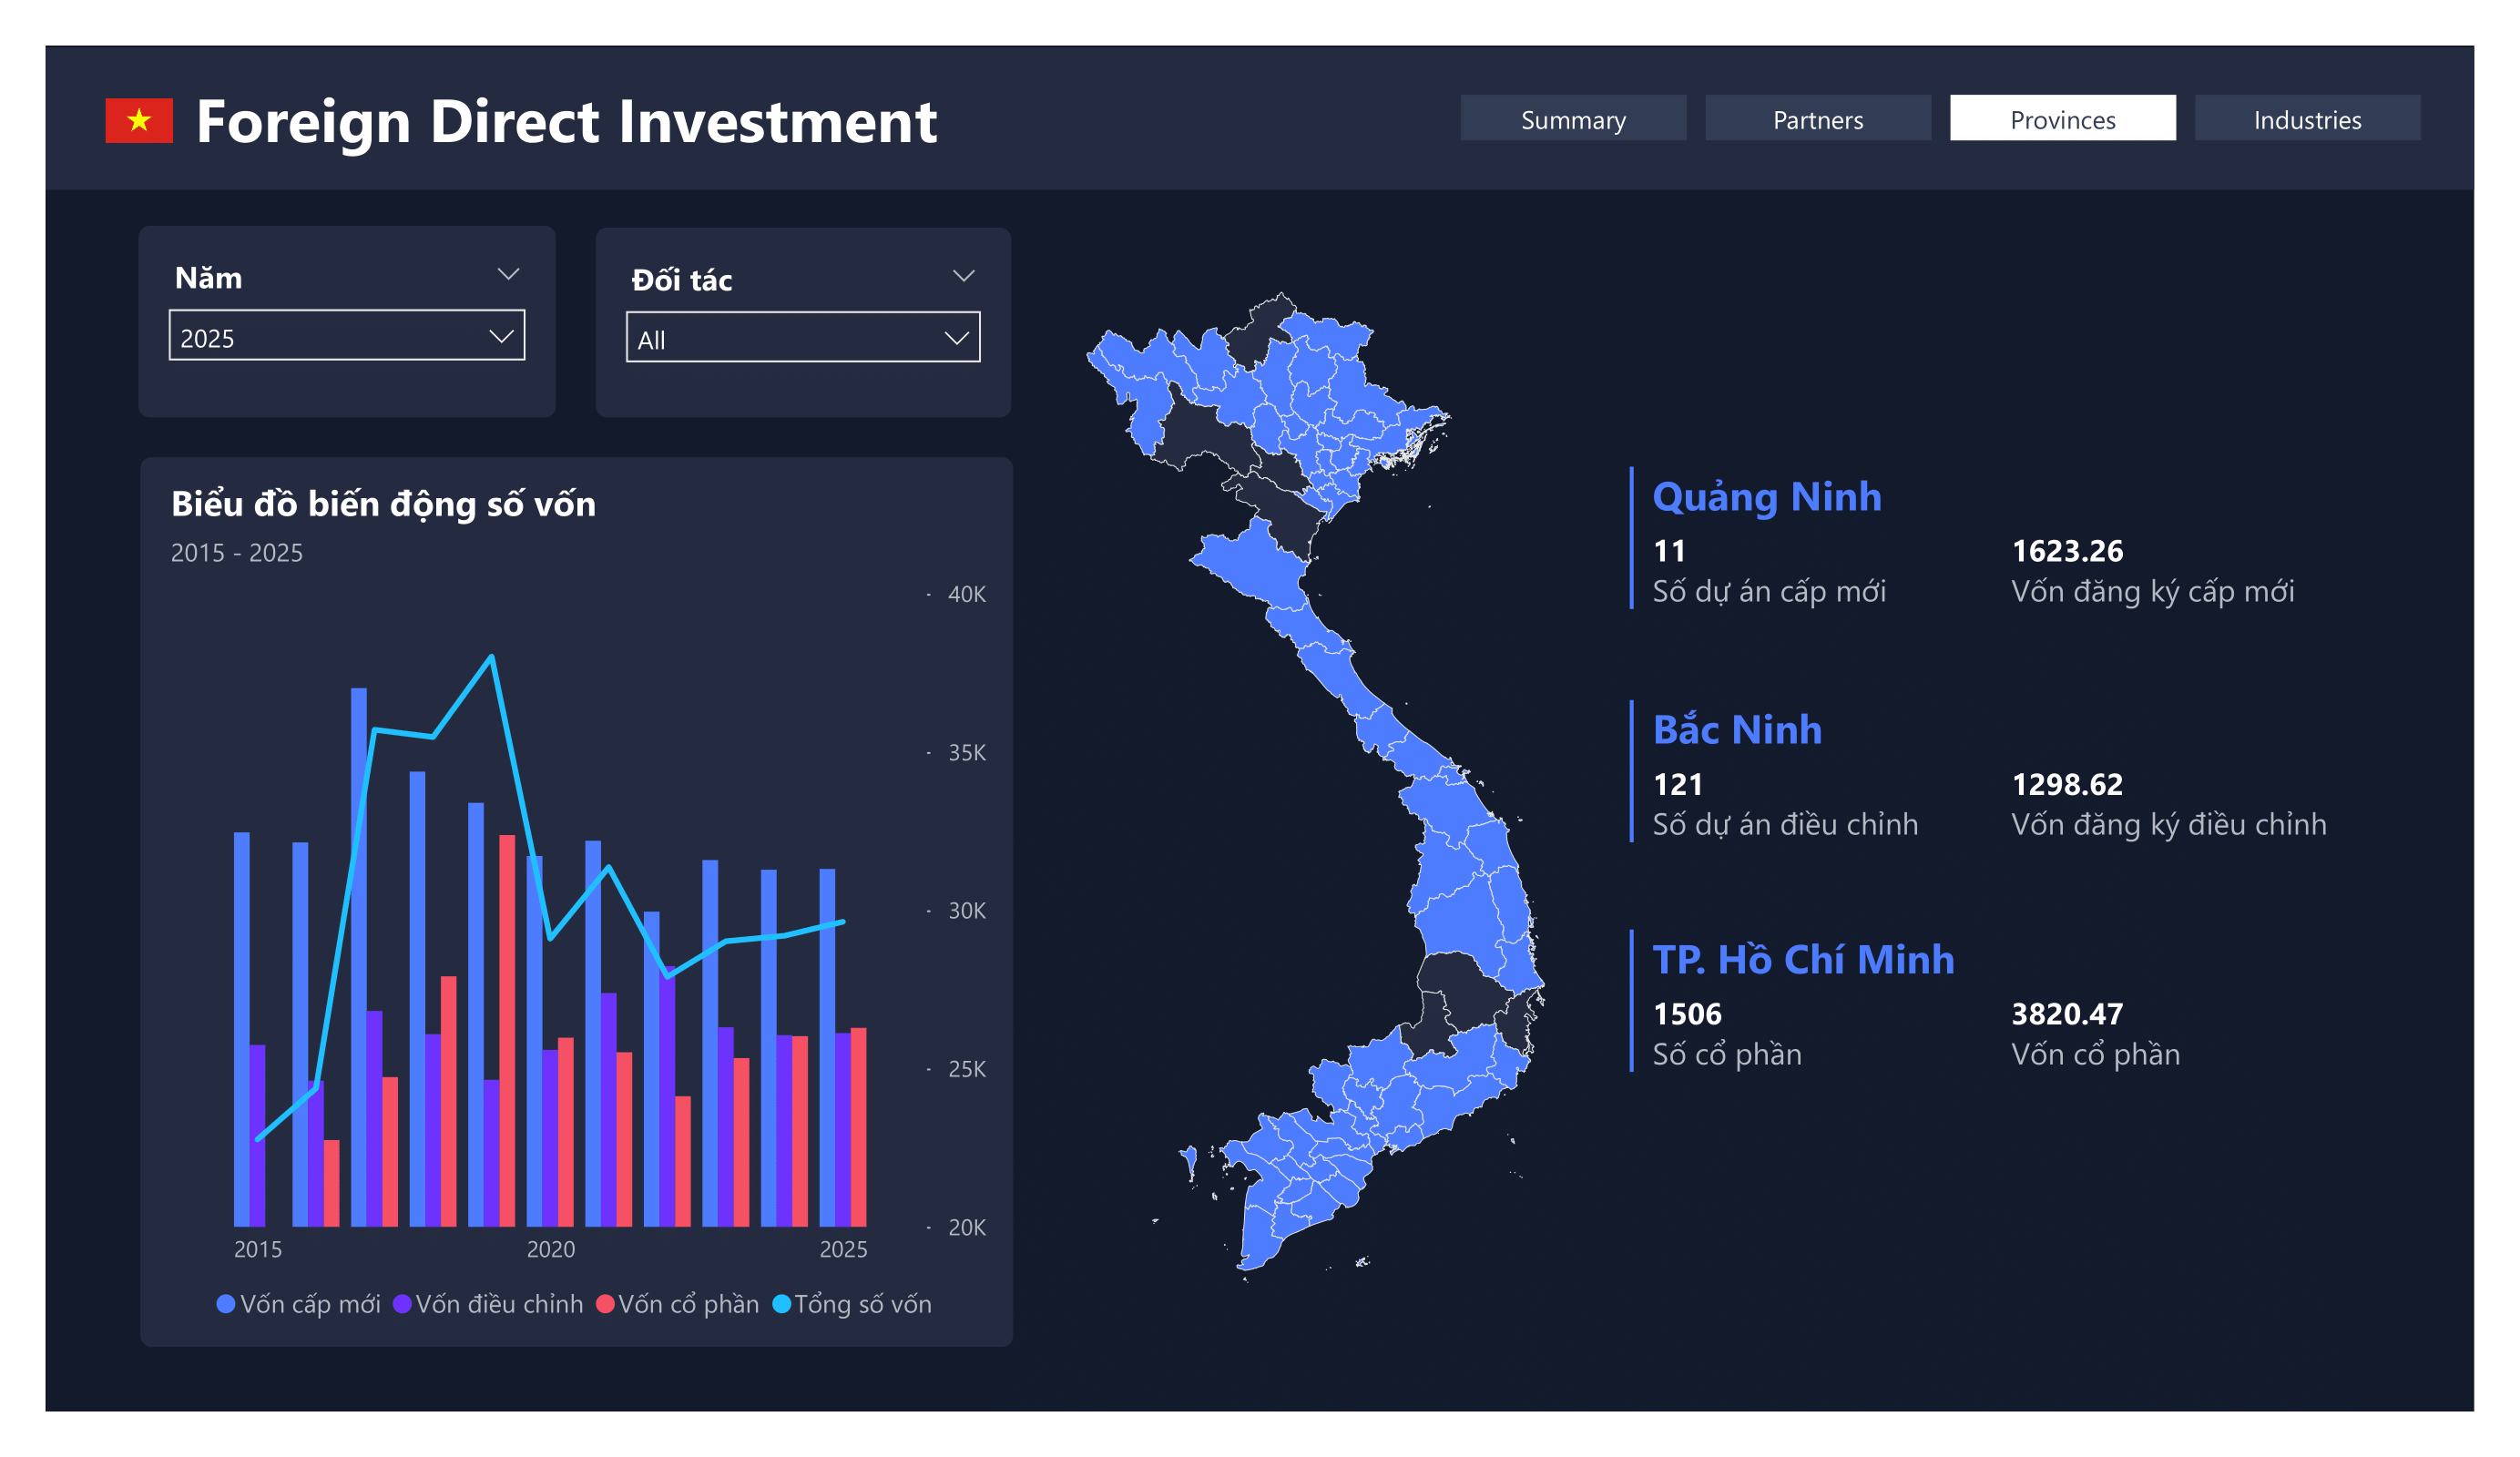

Layout of this report page (visuals, bound fields, positions):
{"tool":"powerbi","page":{"name":"Provinces","canvas":[1280,720],"ordinal":2},"visuals":[{"type":"shape","box":[0,0.8,1280,75],"z":0},{"type":"group","id":"g1","title":"Group 1","box":[829.9,217.1,399.9,347.2],"z":0,"group":"g2"},{"type":"shape","box":[60.8,0,427.7,74.6],"z":1000},{"type":"image","box":[25.7,23.2,47.3,32.4],"z":2000},{"type":"pageNavigator","box":[746,26.2,507,24],"z":3000},{"type":"slicer","fields":{"Values":["fdi_provinces_vi_clean.Đối tác"]},"box":[289.5,96.1,219.6,100.2],"z":4000},{"type":"group","id":"g2","title":"Group 2","box":[530,95.7,700,590],"z":5000},{"type":"shapeMap","fields":{"Category":["fdi_provinces_vi_clean.Đối tác"]},"box":[530,95.7,279.4,590.1],"z":5000,"group":"g2"},{"type":"slicer","fields":{"Values":["fdi_provinces_vi_clean.Năm"]},"box":[49.4,94.7,219.6,101.5],"z":6000},{"type":"lineClusteredColumnComboChart","title":"Biểu đồ biến động số vốn","fields":{"Y":["Sum(fdi_provinces_vi_clean.Vốn đăng ký cấp mới (triệu USD))","Sum(fdi_provinces_vi_clean.Vốn đăng ký điều chỉnh (triệu USD))","Sum(fdi_provinces_vi_clean.Giá trị góp vốn, mua cổ phần (triệu USD))"],"Category":["fdi_provinces_vi_clean.Năm"],"Y2":["fdi_provinces_vi_clean.Total_Provinces"]},"box":[50,217.1,460,468.6],"z":7000},{"type":"multiRowCard","fields":{"Values":["fdi_provinces_vi_clean.Đối tác","fdi_provinces_vi_clean.Số lượt góp vốn mua cổ phần","fdi_provinces_vi_clean.Giá trị góp vốn, mua cổ phần (triệu USD)"]},"box":[829.9,461.4,399.9,102.9],"z":9000,"group":"g1"},{"type":"multiRowCard","fields":{"Values":["fdi_provinces_vi_clean.Đối tác","fdi_provinces_vi_clean.Số lượt dự án điều chỉnh","fdi_provinces_vi_clean.Vốn đăng ký điều chỉnh (triệu USD)"]},"box":[829.9,340.6,399.9,100.2],"z":10000,"group":"g1"},{"type":"multiRowCard","fields":{"Values":["fdi_provinces_vi_clean.Đối tác","fdi_provinces_vi_clean.Số dự án cấp mới","fdi_provinces_vi_clean.Vốn đăng ký cấp mới (triệu USD)"]},"box":[829.9,217.1,399.9,101.5],"z":11000,"group":"g1"}]}

Visuals, with their boxes on the page's 1280x720 design canvas (x1, y1, x2, y2). These are canvas units, not pixel positions in the 2520x1457 screenshot, which may show the page scaled, cropped or inside an application window:
shape: (0,1,1280,76)
"Group 1" group: (830,217,1230,564)
shape: (61,0,488,75)
image: (26,23,73,56)
pageNavigator: (746,26,1253,50)
slicer - fdi_provinces_vi_clean.Đối tác: (290,96,509,196)
"Group 2" group: (530,96,1230,686)
shapeMap - fdi_provinces_vi_clean.Đối tác: (530,96,809,686)
slicer - fdi_provinces_vi_clean.Năm: (49,95,269,196)
"Biểu đồ biến động số vốn" lineClusteredColumnComboChart: (50,217,510,686)
multiRowCard - fdi_provinces_vi_clean.Đối tác x fdi_provinces_vi_clean.Số lượt góp vốn mua cổ phần: (830,461,1230,564)
multiRowCard - fdi_provinces_vi_clean.Đối tác x fdi_provinces_vi_clean.Số lượt dự án điều chỉnh: (830,341,1230,441)
multiRowCard - fdi_provinces_vi_clean.Đối tác x fdi_provinces_vi_clean.Số dự án cấp mới: (830,217,1230,319)
